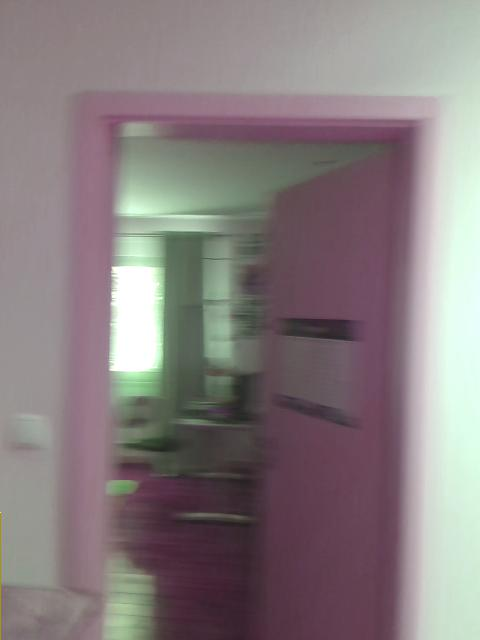semi_door: (67, 92, 450, 639)
